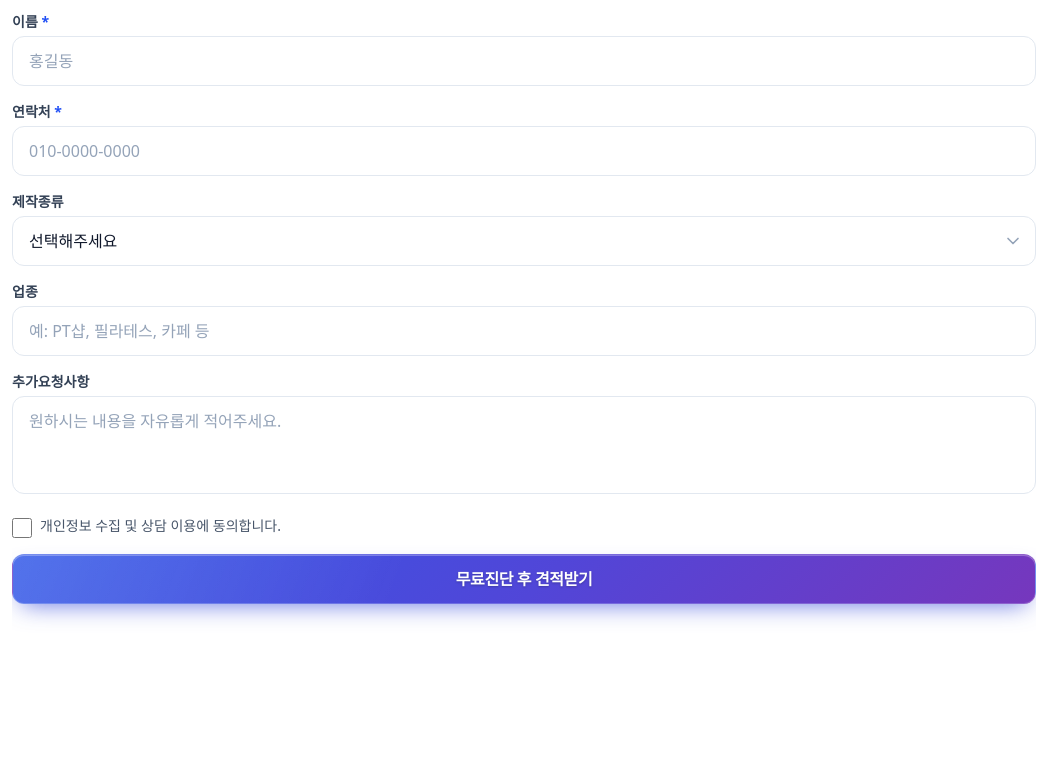
Scenario: SubmissionForm › blocks submit when beforeSubmit returns a message
Click the button.
click(524, 579)  # box [12,554,1036,604]
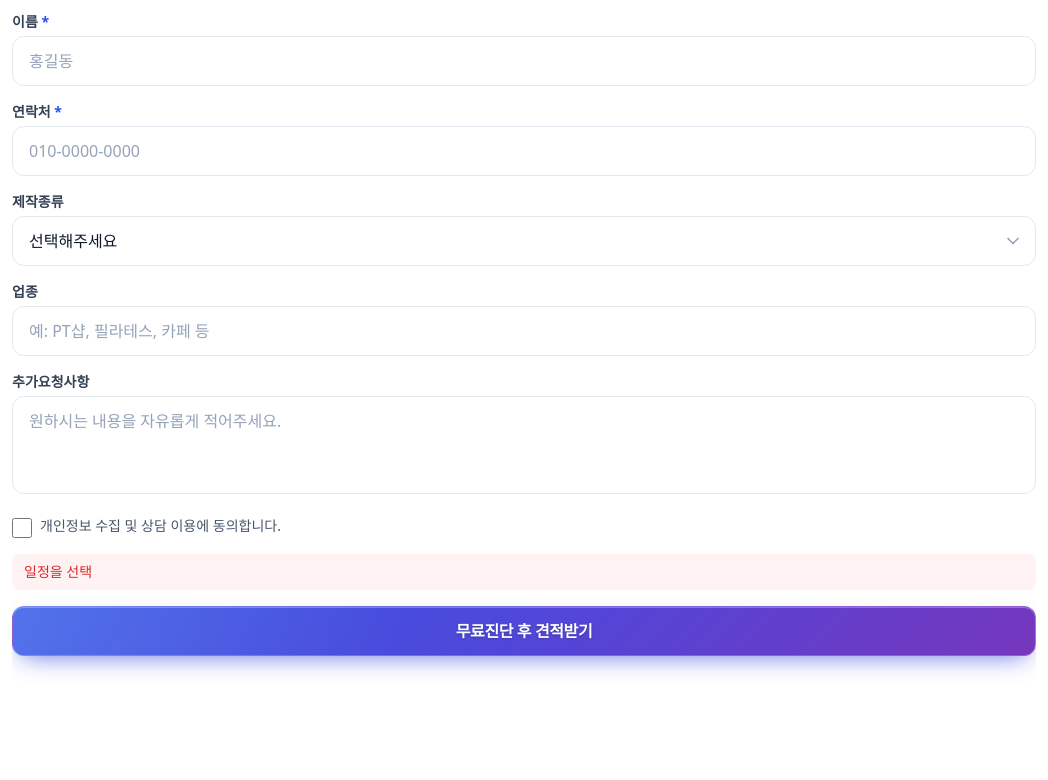
Expected: the text "일정을 선택" is shown, [12,554,1036,590]
